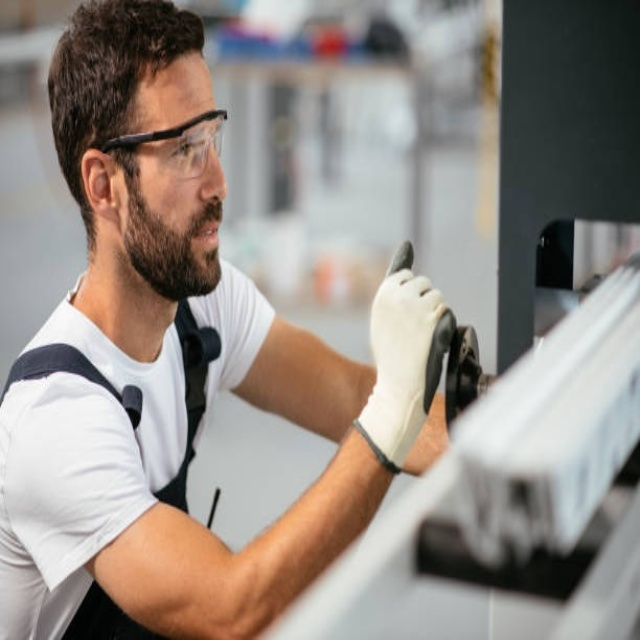Gafas: (98, 110, 228, 176)
Guantes: (354, 248, 454, 474)
Sin_mascara: (185, 210, 228, 278)
